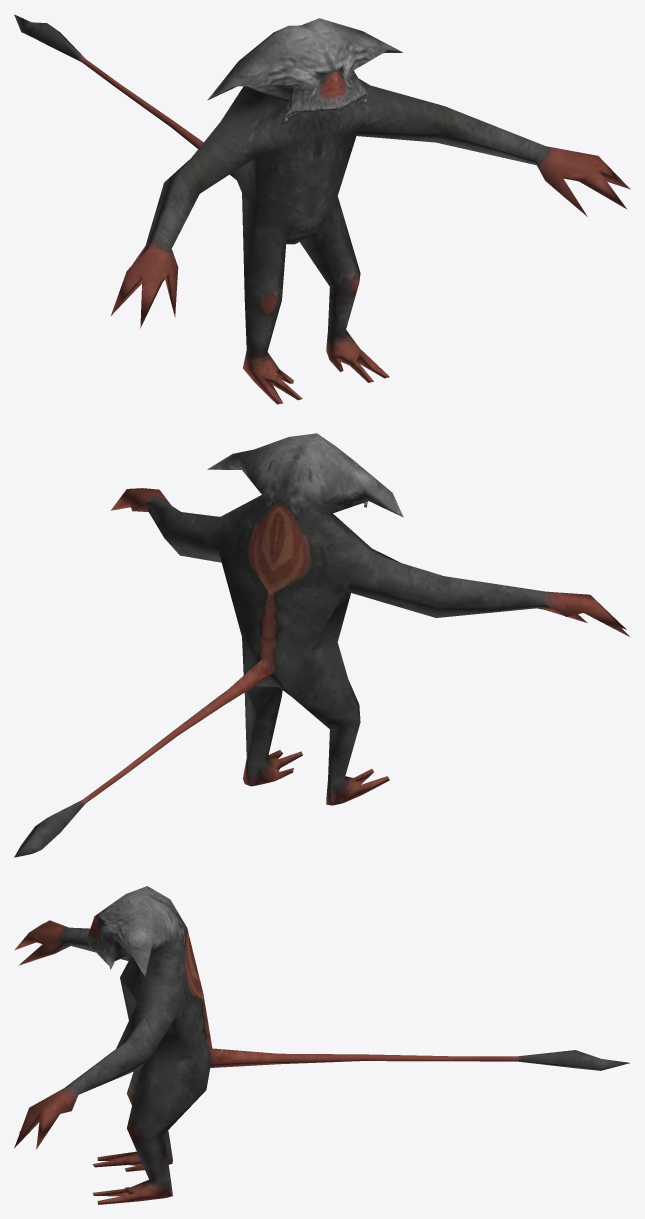
Rendered from tach.far.glb.
3 views of the same model, one above another, from view 1: azimuth 30°, elevation 25°; view 2: azimuth 150°, elevation 25°; view 3: azimuth 270°, elevation 25° (orthographic). The views are drawn at different scales.
Bounding box in the file's own units: 1.87 × 1.19 × 2.3.
1 material, 1 textured.
